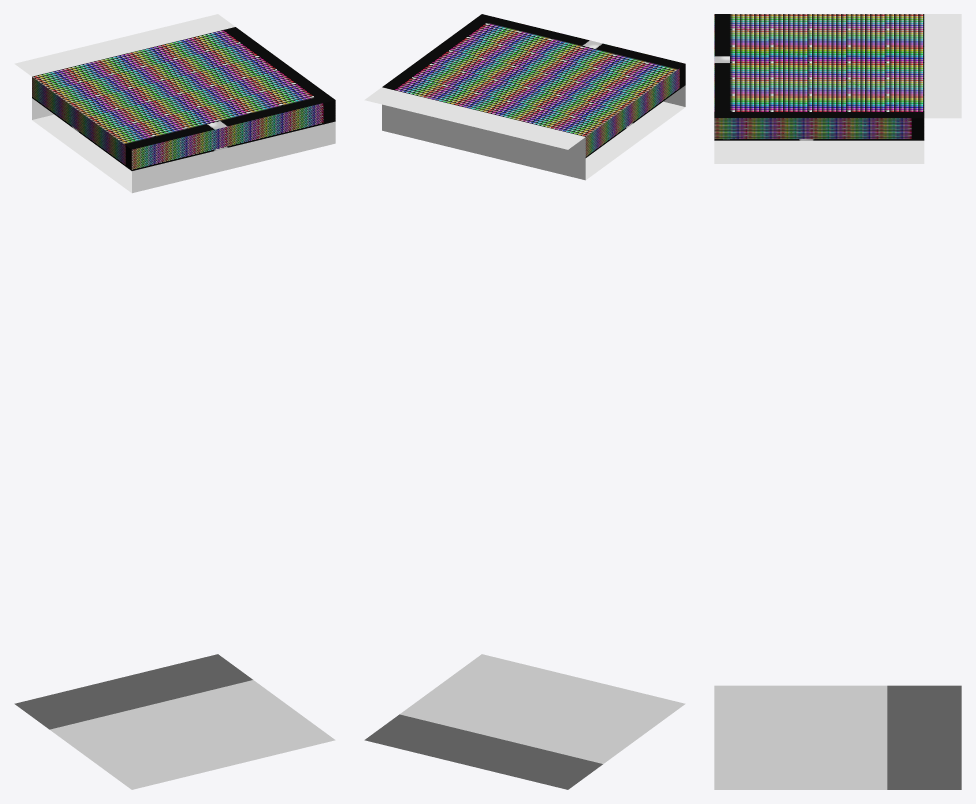
The model's file is ground_line_1_1.fbx.
3 views of the same model, side by side, from view 1: azimuth 30°, elevation 25°; view 2: azimuth 150°, elevation 25°; view 3: azimuth 270°, elevation 25° (orthographic). The views are drawn at different scales.
Visible parts, largest first — view 1: shadowsOnly, ground_line_1_1, ceiling_line_1_1; view 2: ground_line_1_1, shadowsOnly, ceiling_line_1_1; view 3: shadowsOnly, ground_line_1_1, ceiling_line_1_1.
Boxes of the visible parts, bbox=[...] form: shadowsOnly: bbox=[32, 27, 335, 170]; ground_line_1_1: bbox=[14, 654, 335, 789]; ceiling_line_1_1: bbox=[14, 14, 335, 193]; ground_line_1_1: bbox=[364, 654, 685, 789]; shadowsOnly: bbox=[382, 14, 685, 157]; ceiling_line_1_1: bbox=[364, 85, 685, 180]; shadowsOnly: bbox=[714, 14, 924, 140]; ground_line_1_1: bbox=[714, 685, 961, 789]; ceiling_line_1_1: bbox=[714, 14, 961, 163].
Size of what is drawn, in the model's own units: 100 by 300 by 100.
